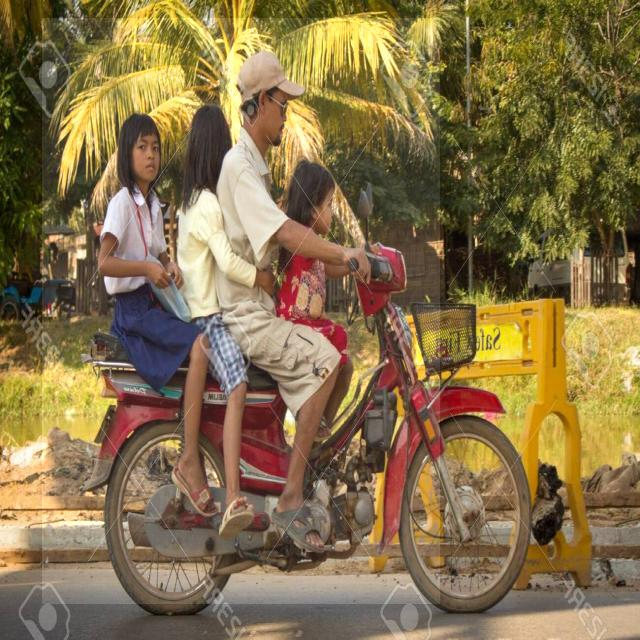Overloading: (42, 18, 440, 604)
